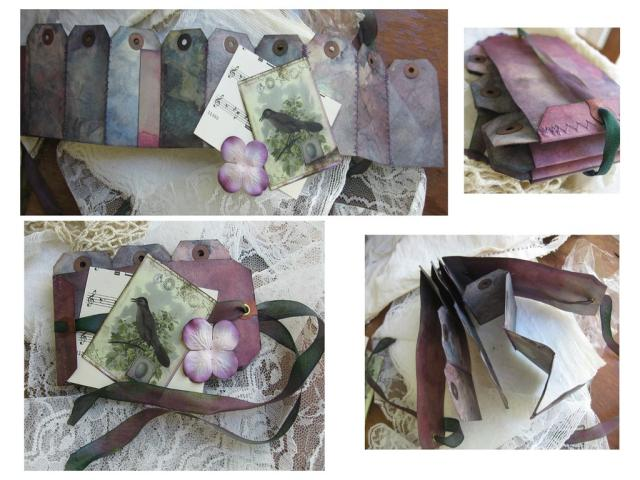Bird: (128, 297, 172, 368), (259, 108, 324, 150)
